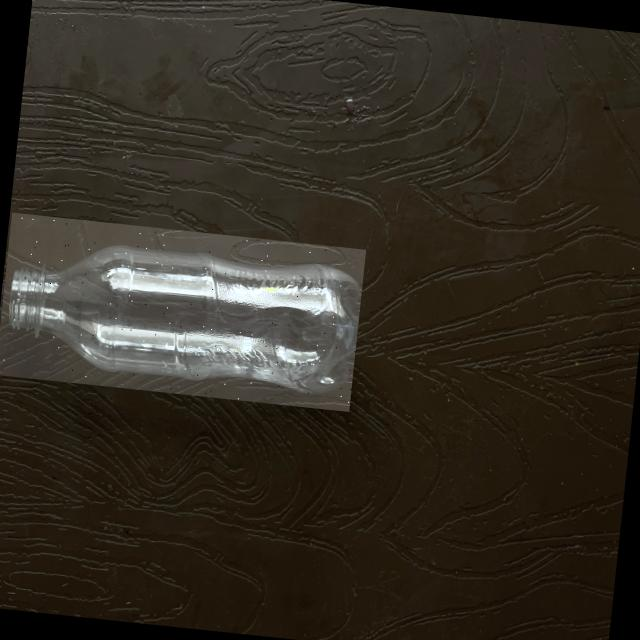PET_ClearBottle: (0, 211, 365, 410)
